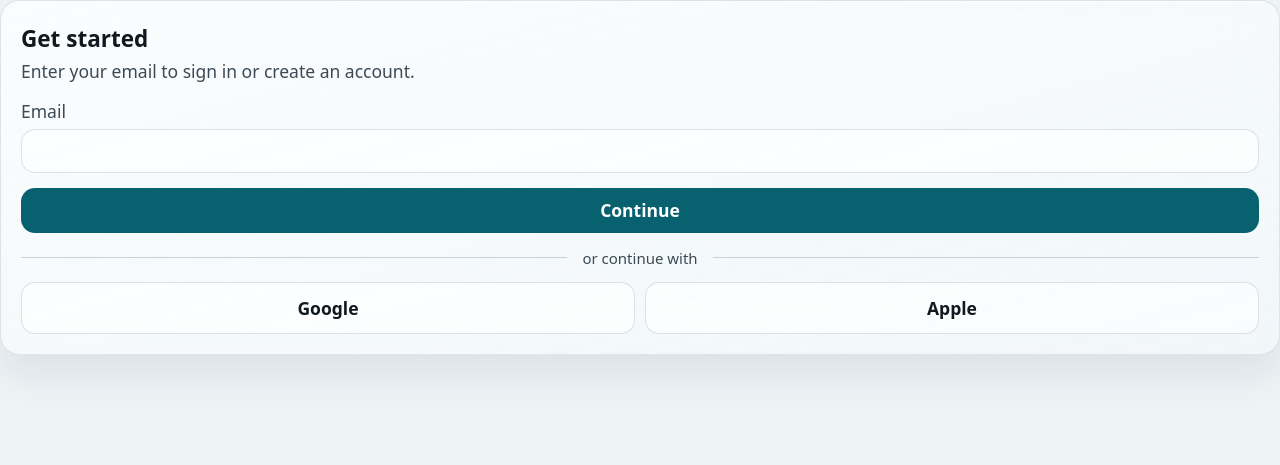
Test: SignInForm › surfaces a real signUp error (not the confirmation notice) when it isn't the already-exists case
Type "dupe@example.com" into the field labelled "Email" at (640,150), box [21, 128, 1259, 172]
Click the button "Continue" at (640,210), box [21, 188, 1259, 232]
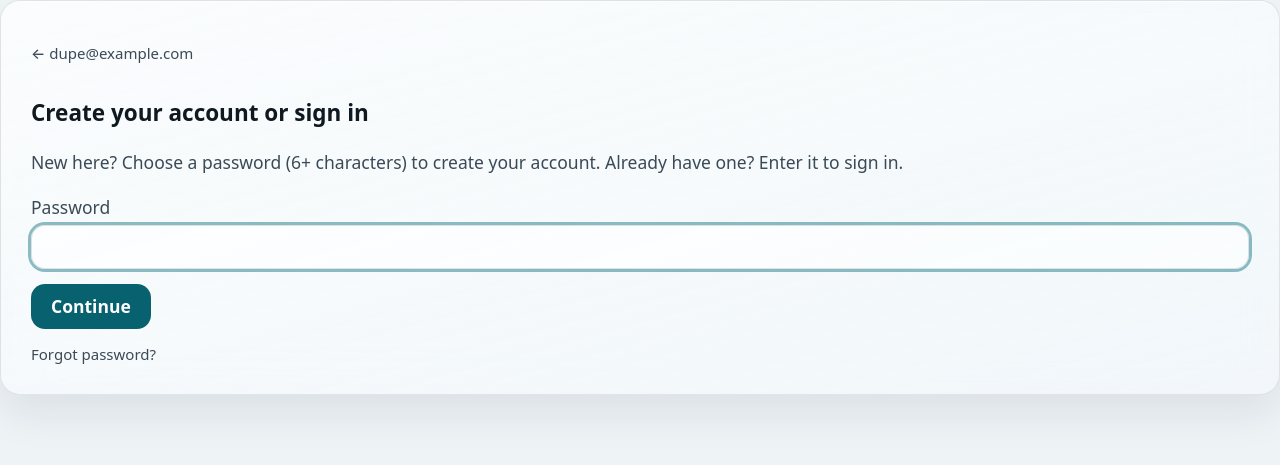
Type "short1" into the password field labelled "Password" at (640,247), box [31, 225, 1249, 269]
Click the button "Continue" at (91,306), box [31, 284, 151, 329]
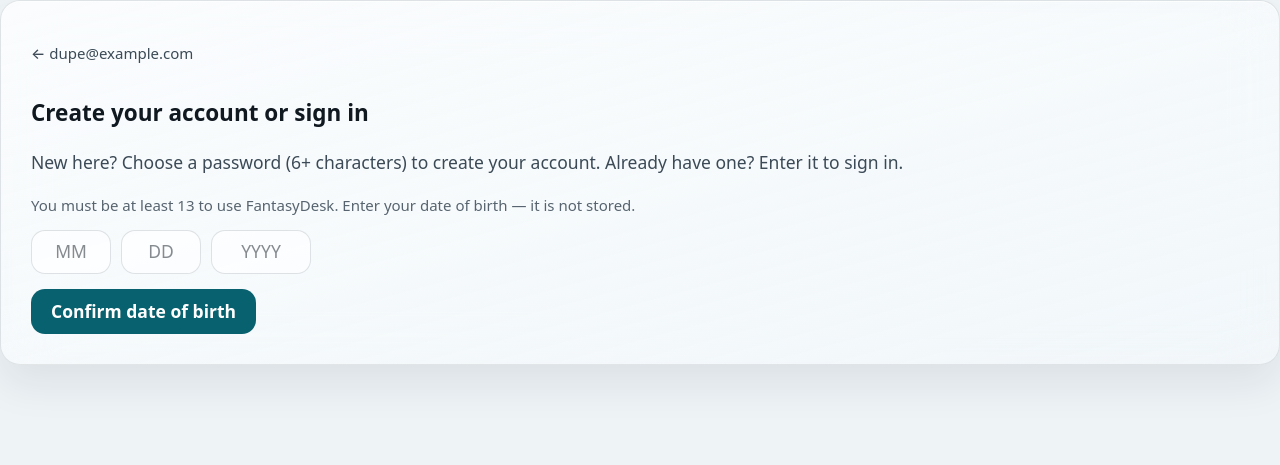
Type "1" into the field named "Birth month" at (71,252), box [31, 230, 111, 274]
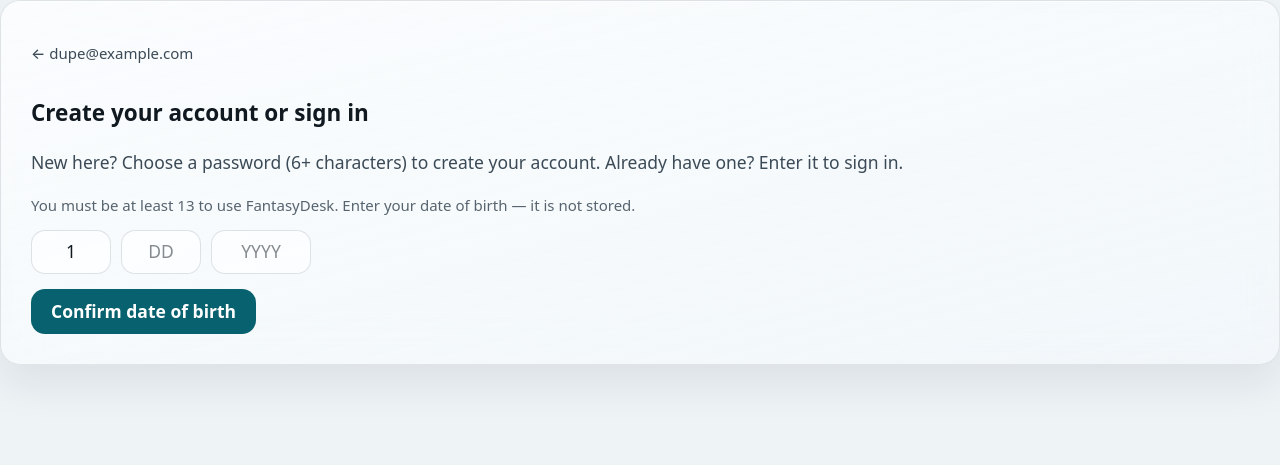
Type "1" into the field named "Birth day" at (161,252), box [121, 230, 201, 274]
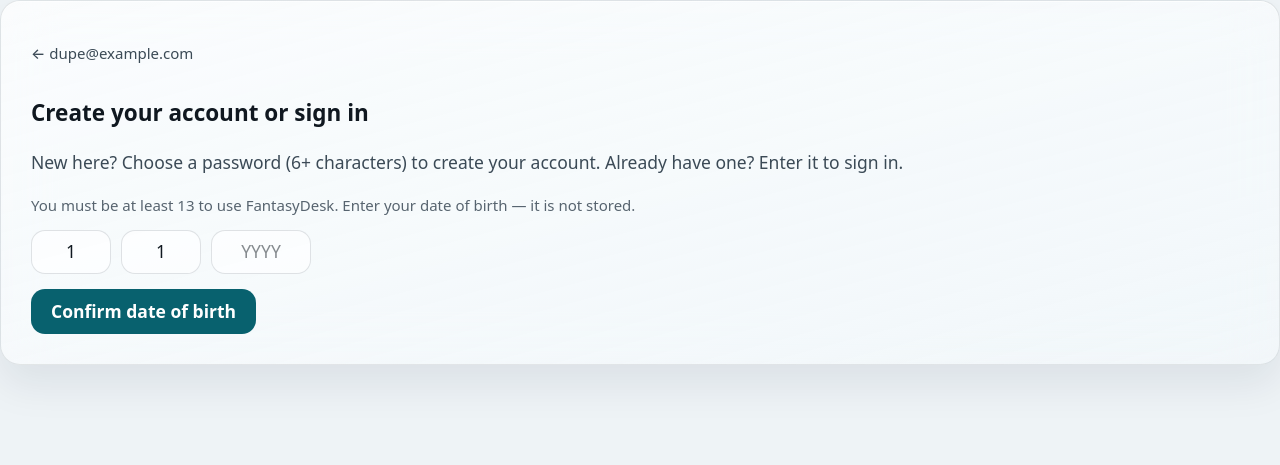
Type "1990" into the field named "Birth year" at (261,252), box [211, 230, 311, 274]
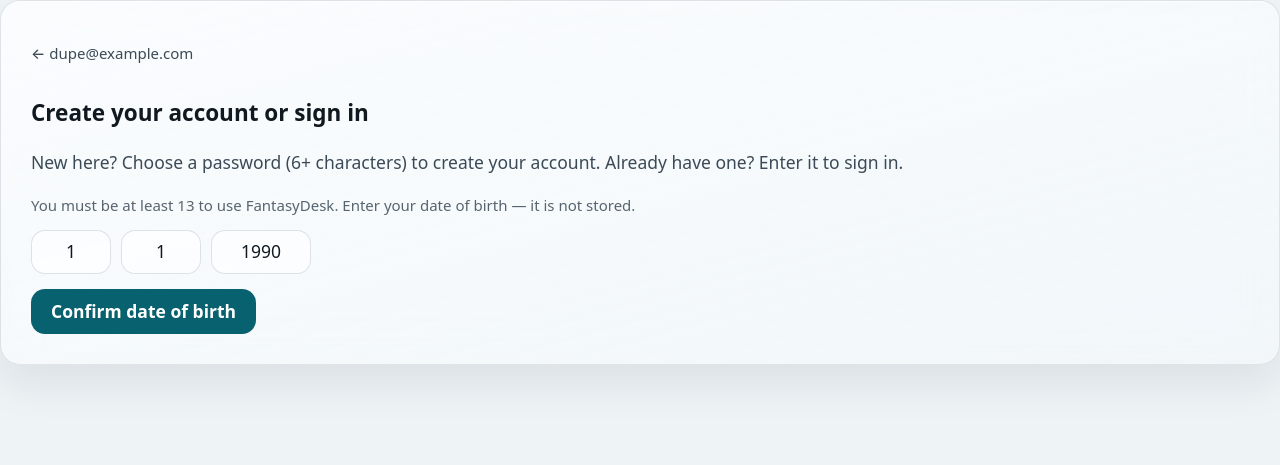
Click the button "Confirm date of birth" at (144,312), box [31, 289, 256, 334]
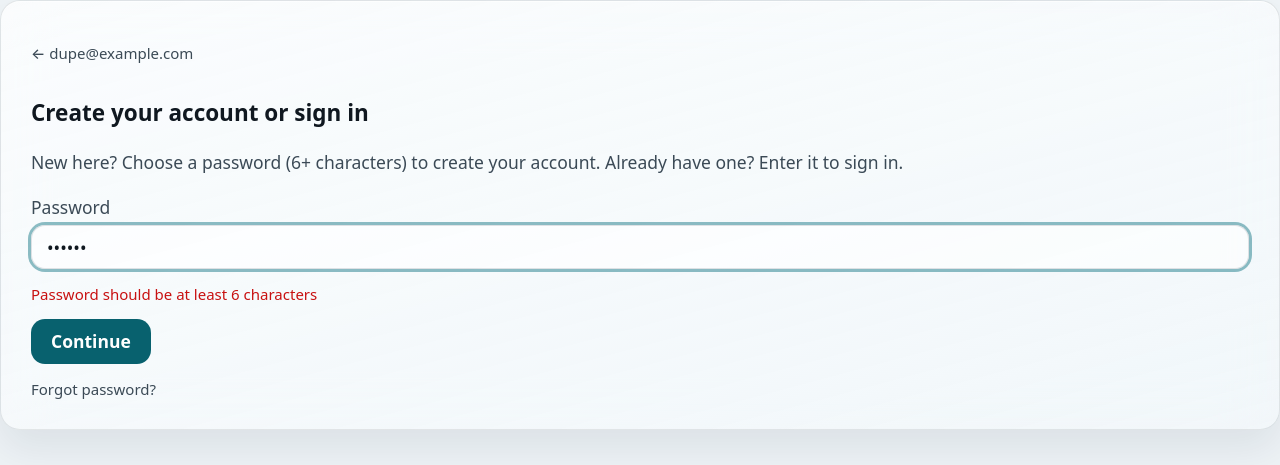
Expected: the text "Password should be at least 6 characters" is shown, [31, 284, 317, 304]
